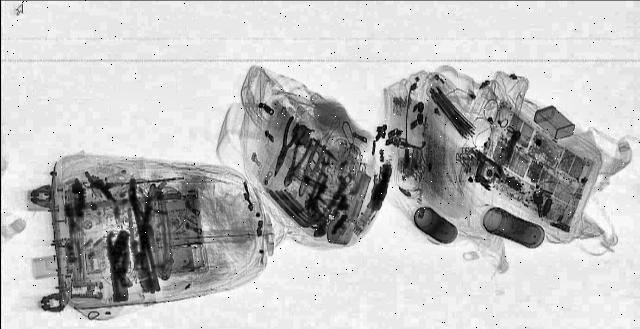Pliers: (268, 114, 304, 176), (292, 141, 330, 195), (275, 136, 313, 186)
